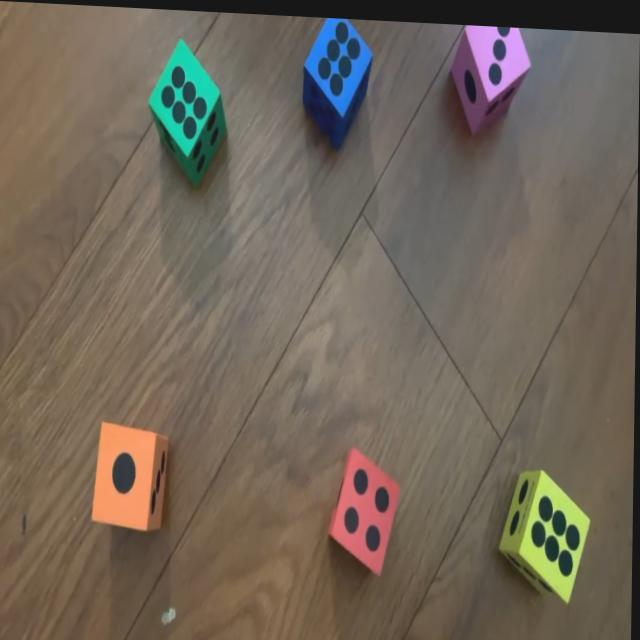cube: (150, 33, 227, 178), (330, 442, 402, 575), (304, 12, 371, 140)
